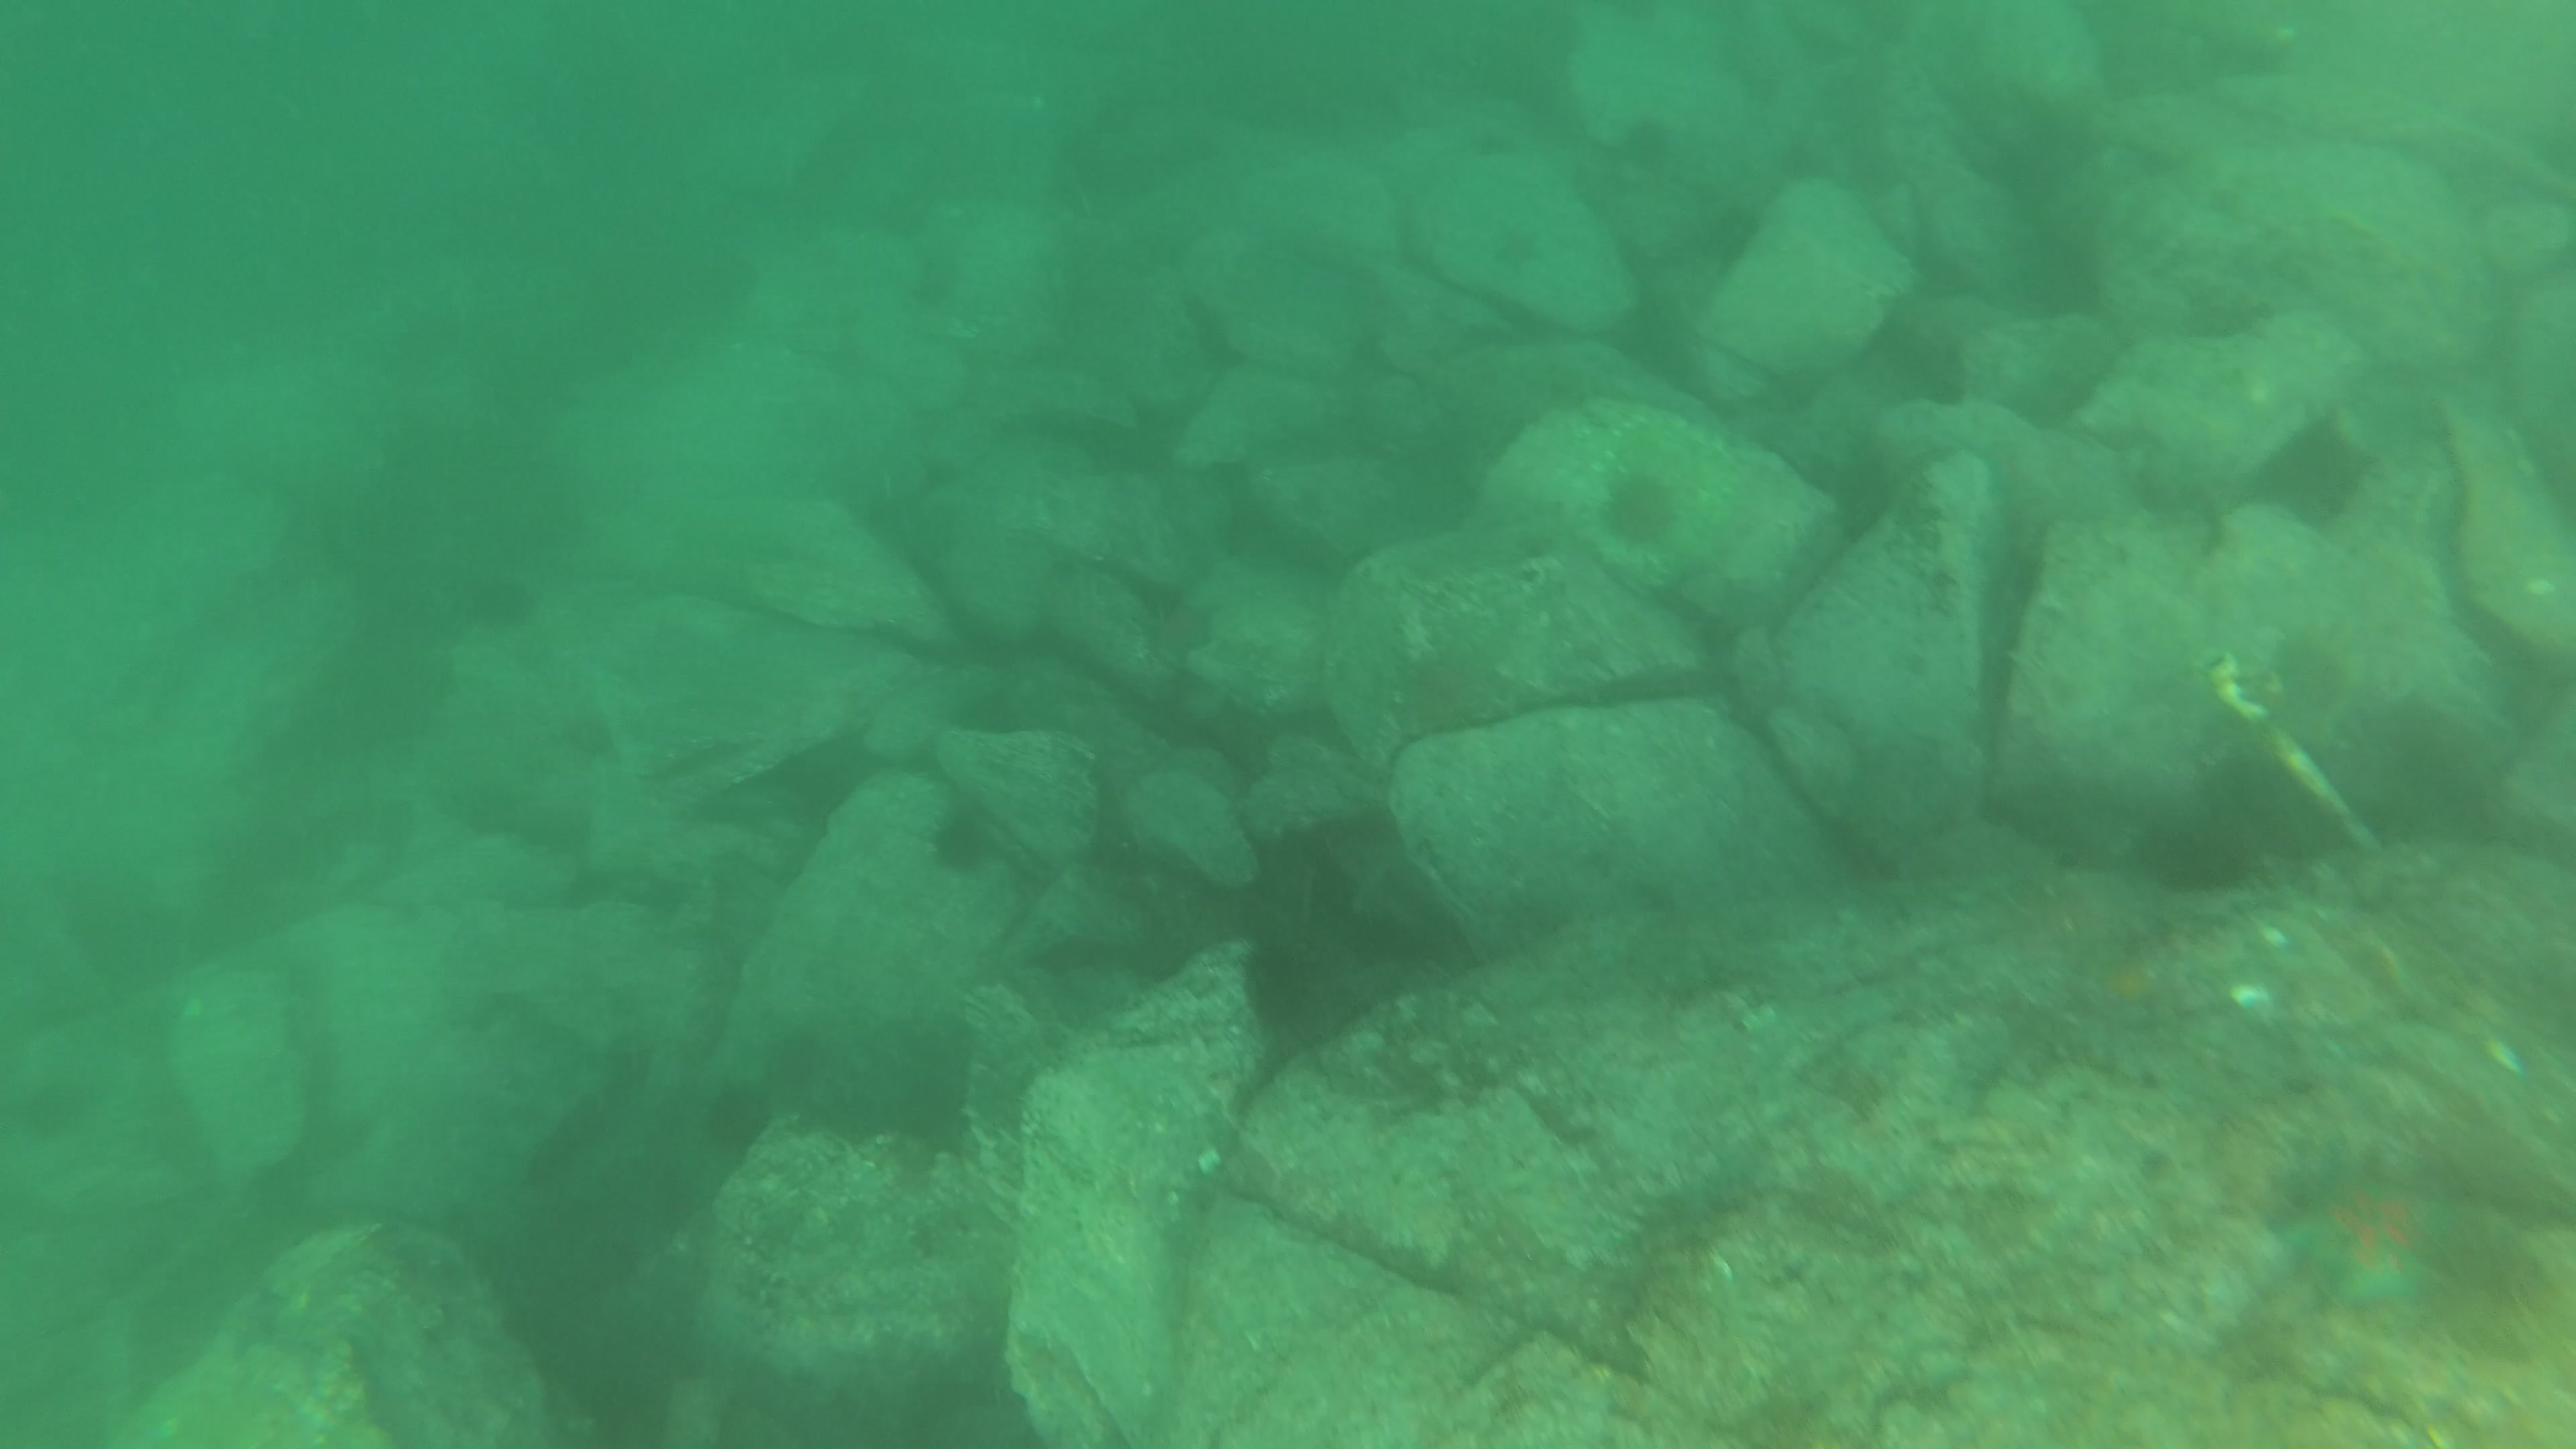echinus: (1246, 924, 1309, 1042), (1596, 465, 1681, 552), (918, 816, 994, 878), (692, 1093, 775, 1145)
starfish: (2272, 1171, 2470, 1300)
